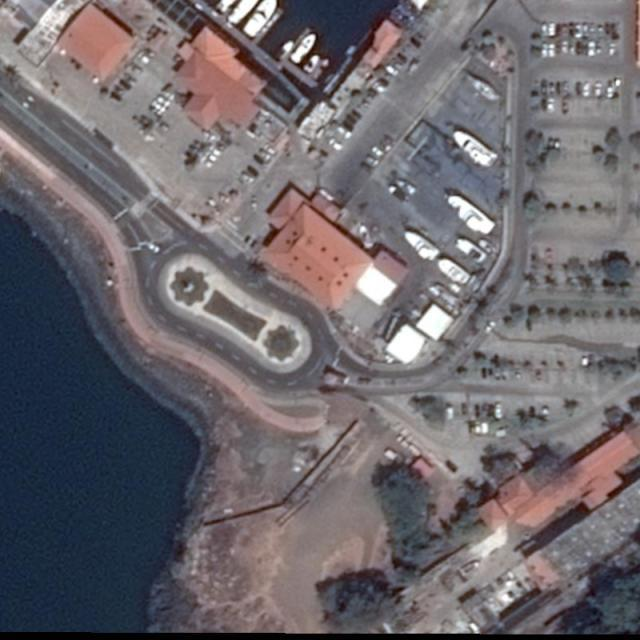vehicle: (262, 143, 277, 158), (330, 138, 344, 154), (385, 63, 398, 78), (338, 125, 353, 138), (253, 154, 266, 167), (152, 101, 165, 114), (259, 150, 273, 162), (371, 145, 385, 157), (360, 162, 373, 174), (247, 165, 259, 178), (366, 154, 378, 166), (372, 82, 384, 94), (162, 90, 175, 101), (157, 121, 170, 132), (110, 92, 122, 103), (138, 52, 150, 63), (158, 96, 170, 107), (129, 64, 142, 74), (202, 130, 215, 140), (582, 22, 590, 38), (125, 75, 136, 86), (205, 151, 216, 162), (121, 81, 133, 91), (582, 83, 590, 98), (392, 59, 402, 70), (547, 100, 554, 115), (594, 83, 602, 96), (210, 147, 221, 156), (549, 139, 560, 148), (588, 42, 595, 56), (569, 42, 576, 56), (486, 320, 494, 332), (576, 25, 583, 38), (495, 405, 502, 418), (474, 421, 481, 434), (549, 43, 555, 58), (202, 158, 211, 168), (242, 176, 254, 183), (542, 83, 549, 95), (563, 99, 569, 113), (549, 23, 555, 36), (608, 85, 614, 98), (562, 43, 568, 55), (563, 83, 569, 95), (542, 42, 547, 56), (576, 84, 582, 95), (541, 23, 546, 36), (550, 84, 555, 94), (557, 84, 562, 94)
